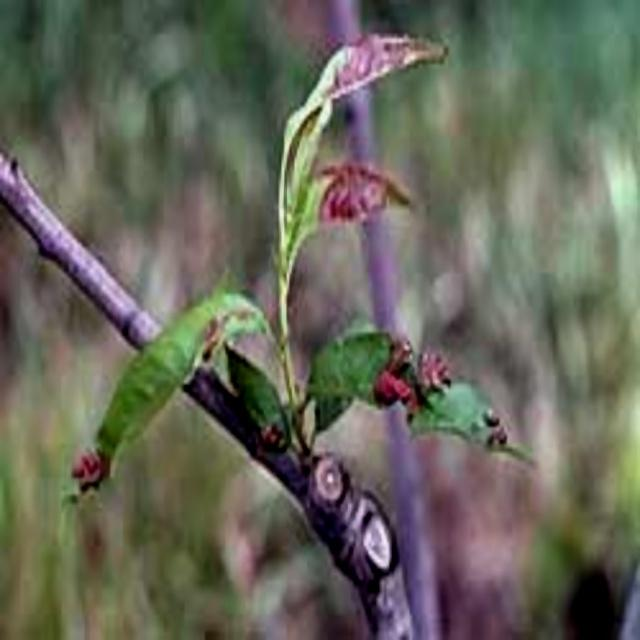leaf_curl: (282, 0, 489, 267), (337, 316, 552, 460), (3, 374, 170, 556)
